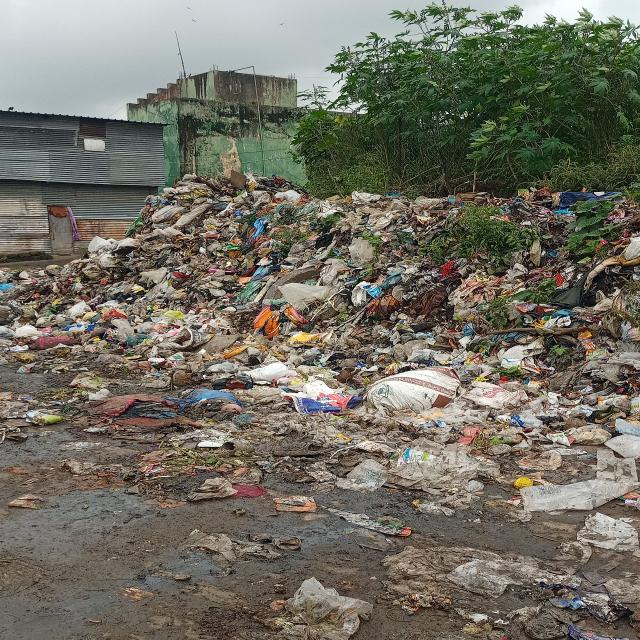garbage: (146, 179, 640, 506), (3, 242, 155, 426)
